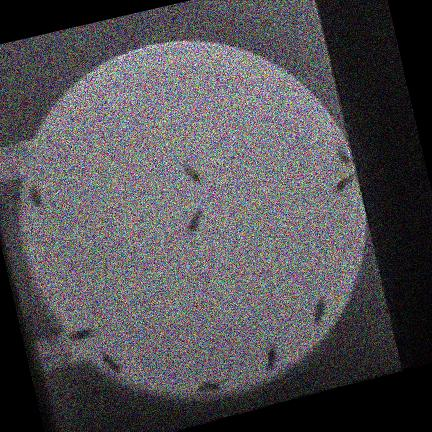fly: (182, 164, 202, 184), (102, 352, 121, 373), (334, 174, 356, 192), (197, 381, 224, 394), (188, 209, 203, 232), (314, 297, 327, 323), (266, 343, 278, 371), (68, 328, 95, 340), (29, 185, 43, 207), (337, 145, 352, 165)
